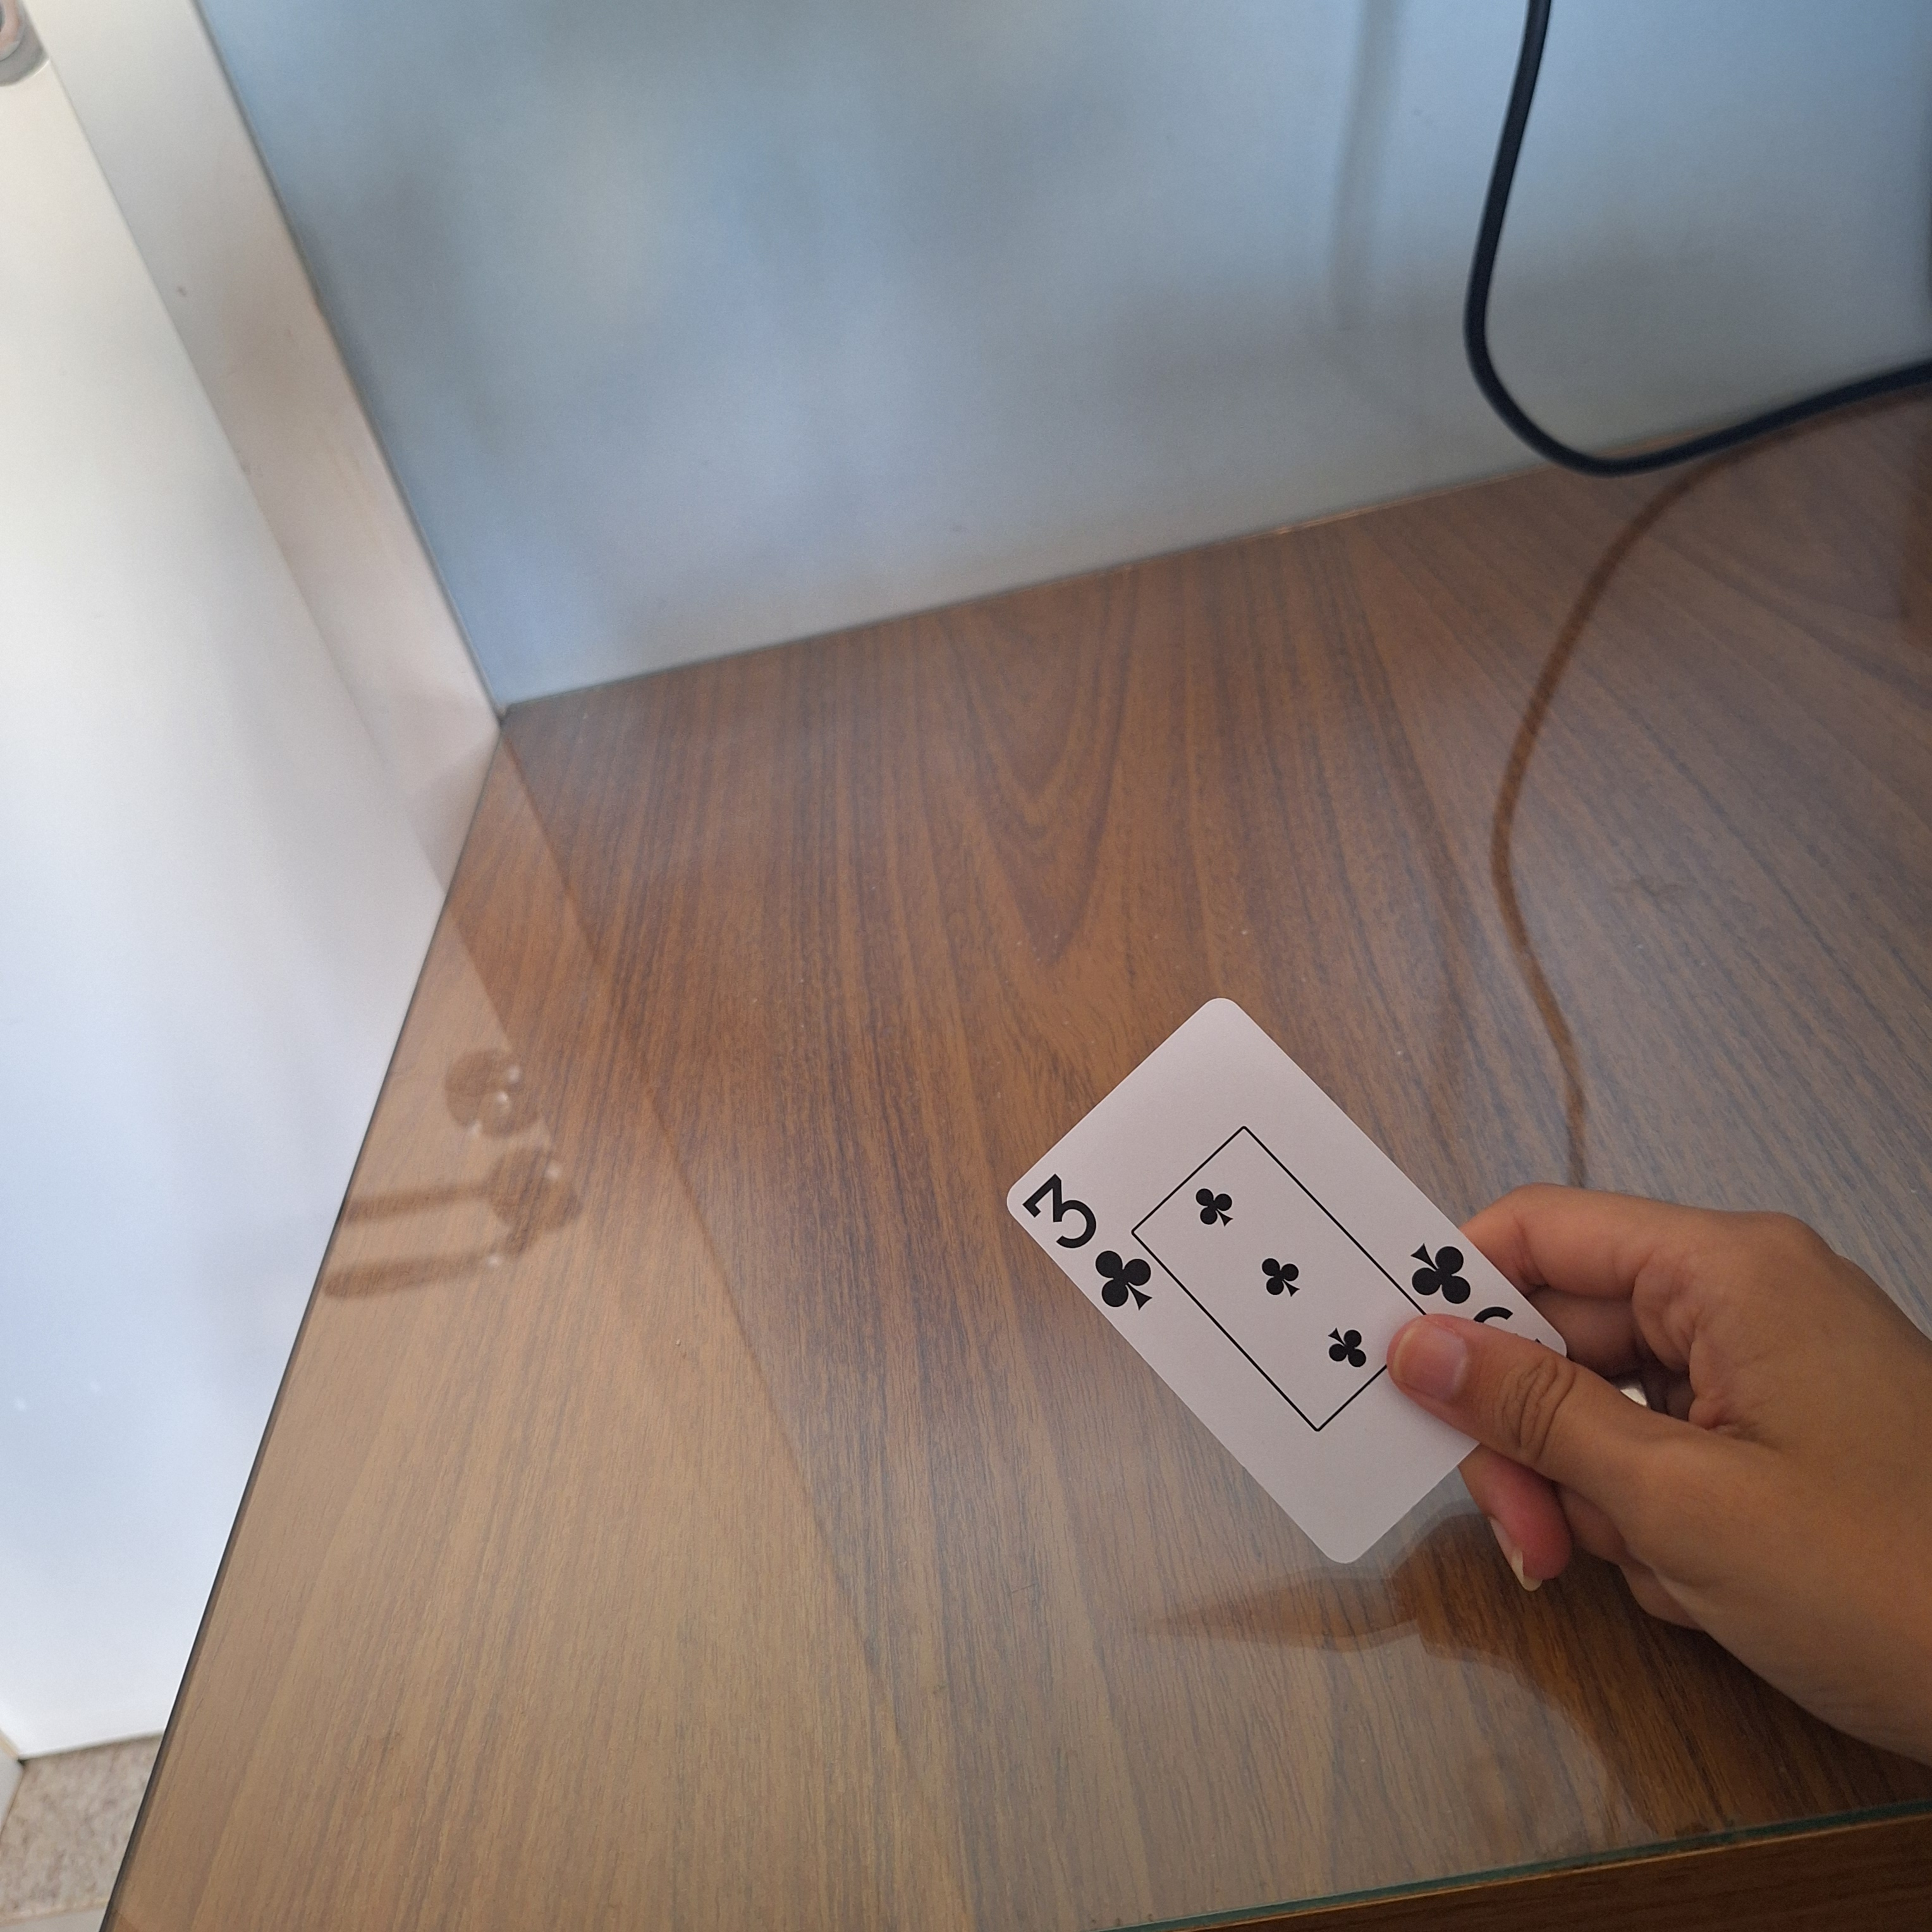3P: (1010, 1169, 1157, 1318)
